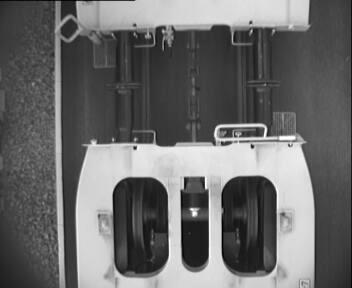twist_lock_2: (105, 170, 286, 283)
